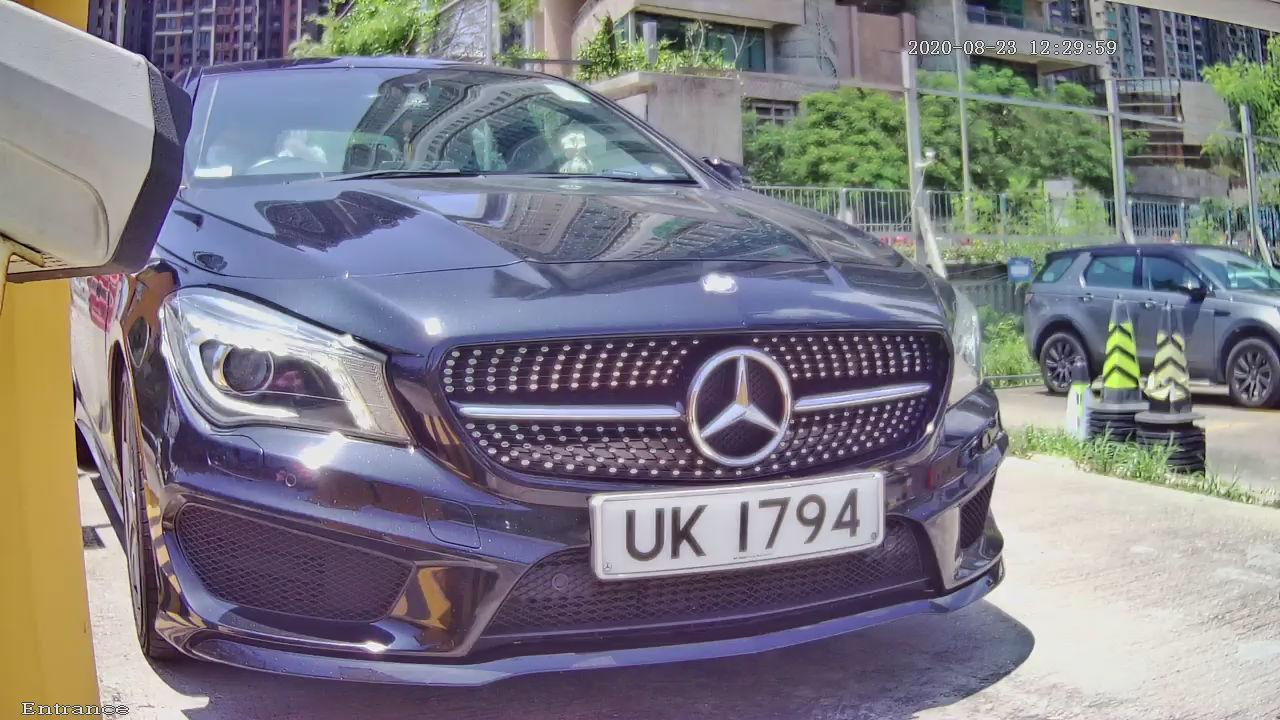Car: (41, 10, 1086, 720)
License Plate: (578, 467, 892, 586)
